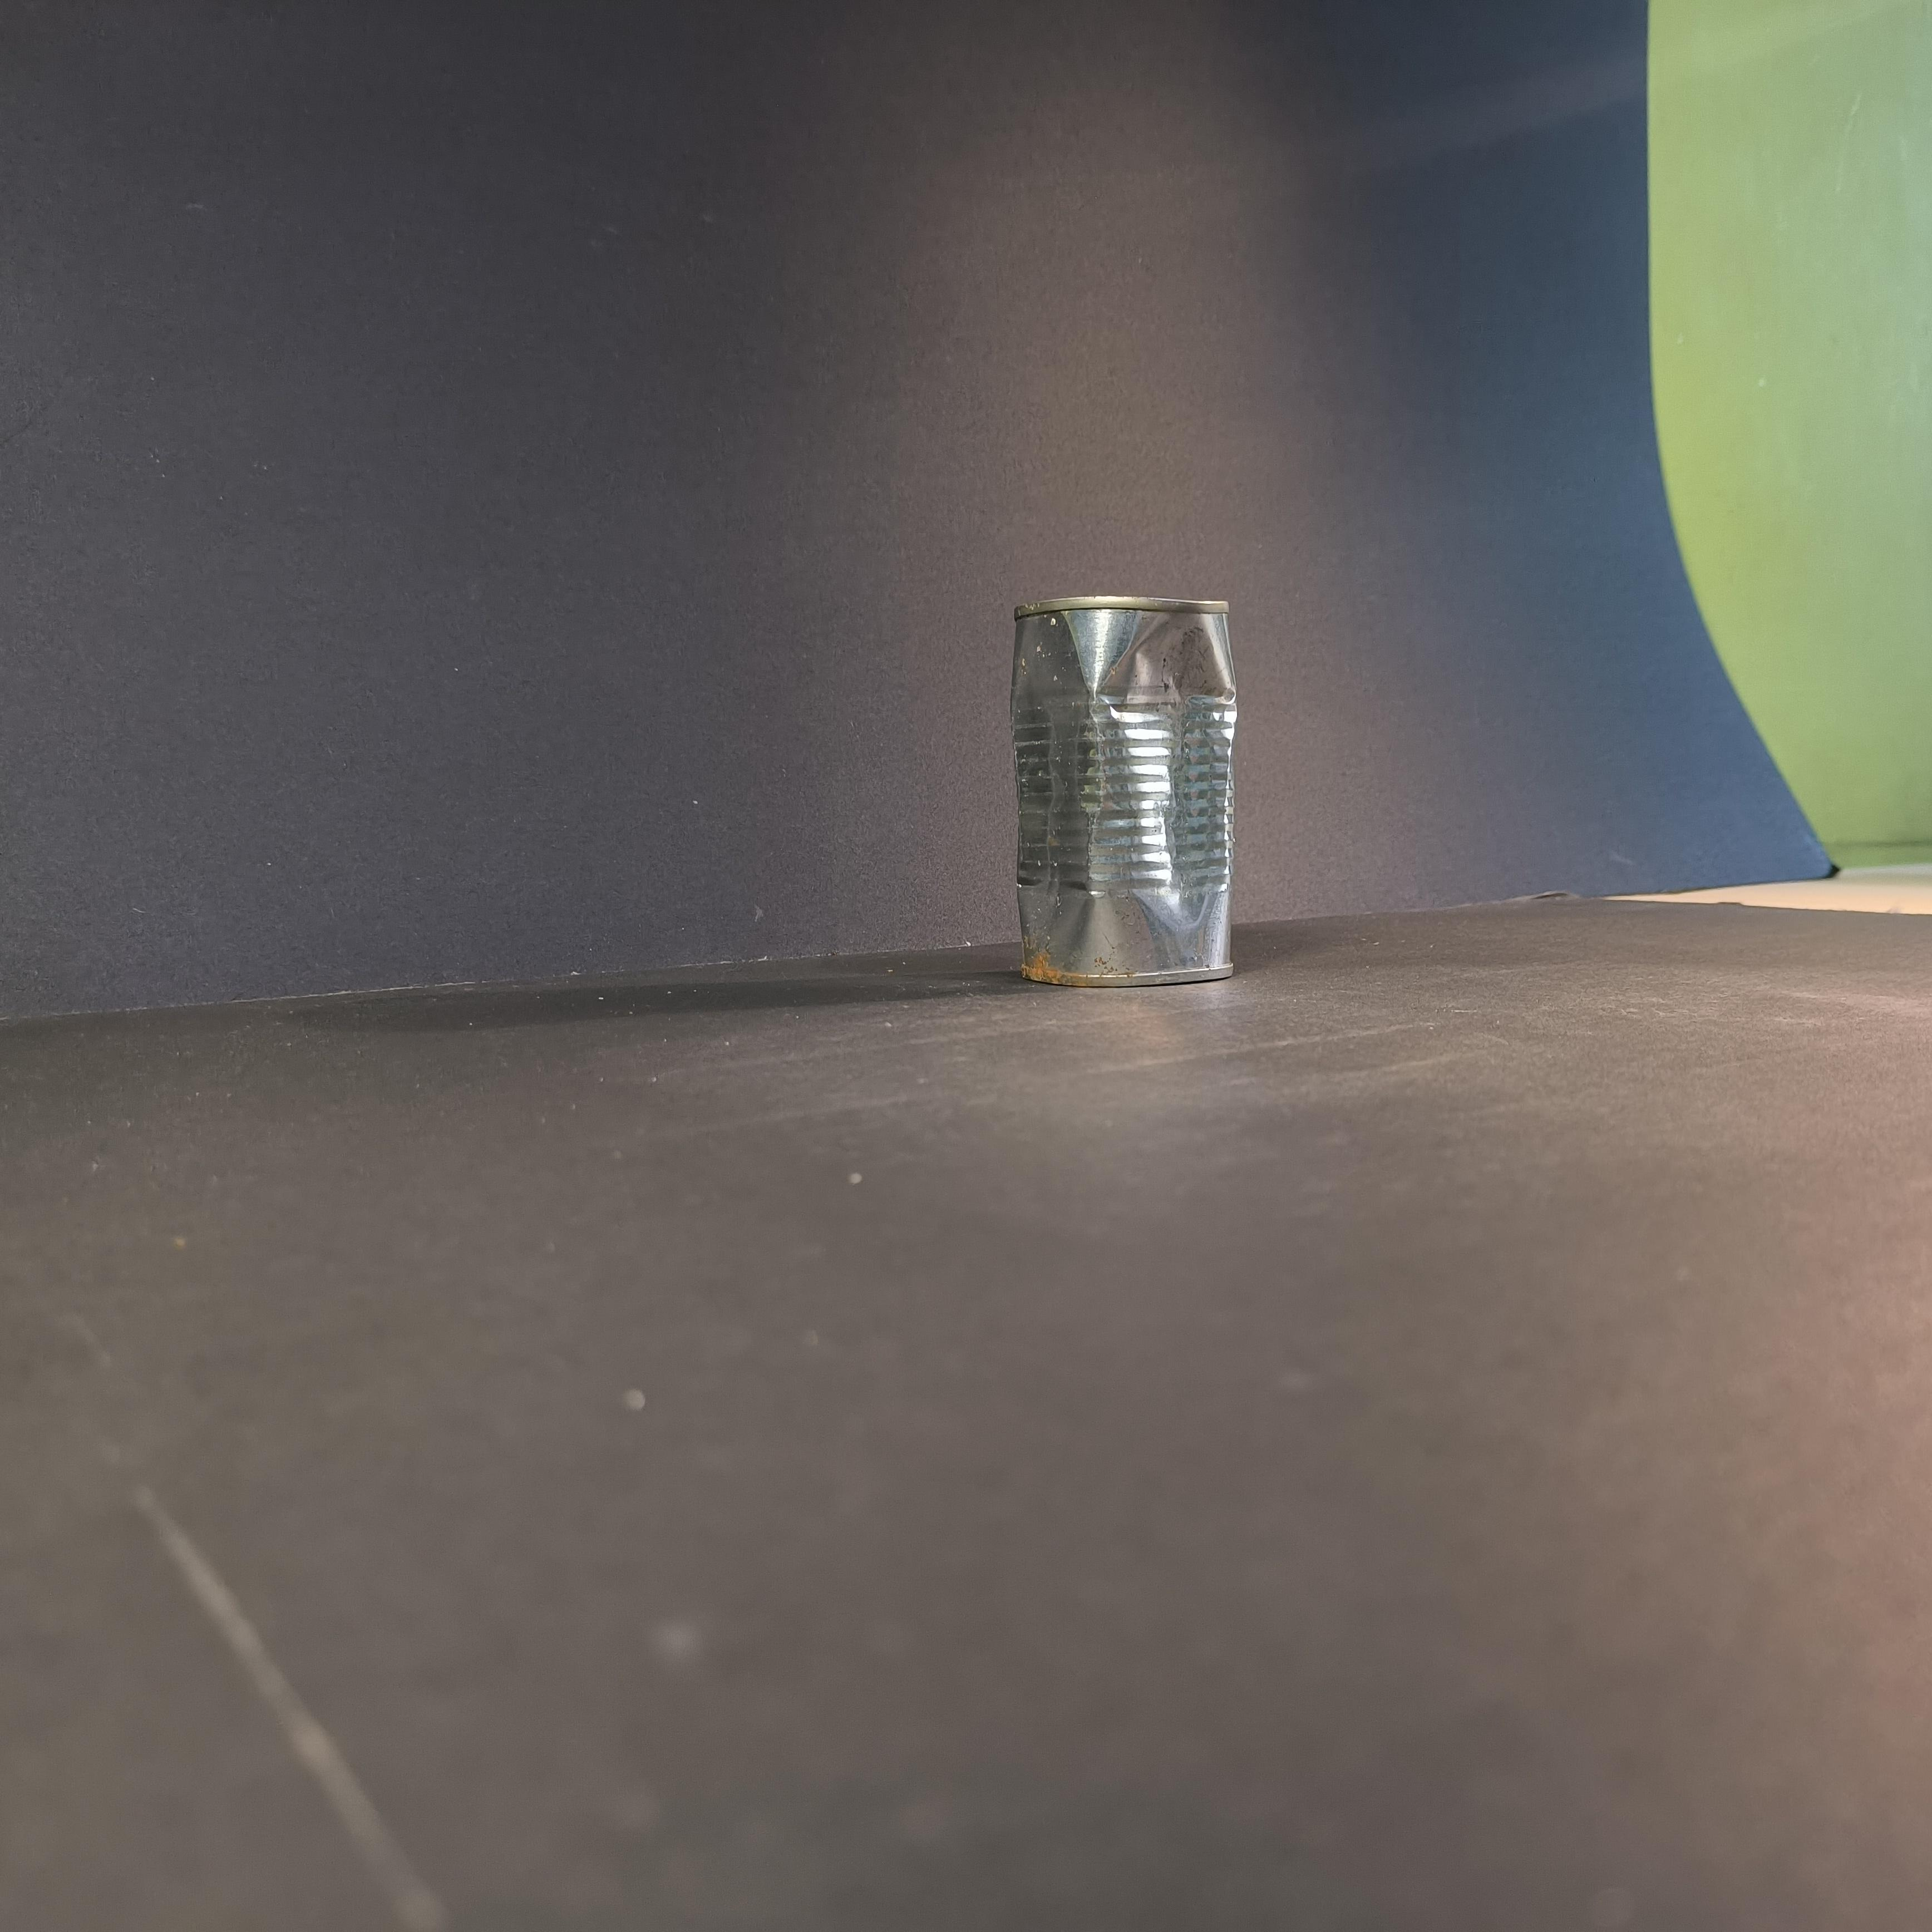Dented: (996, 577, 1258, 1016)
